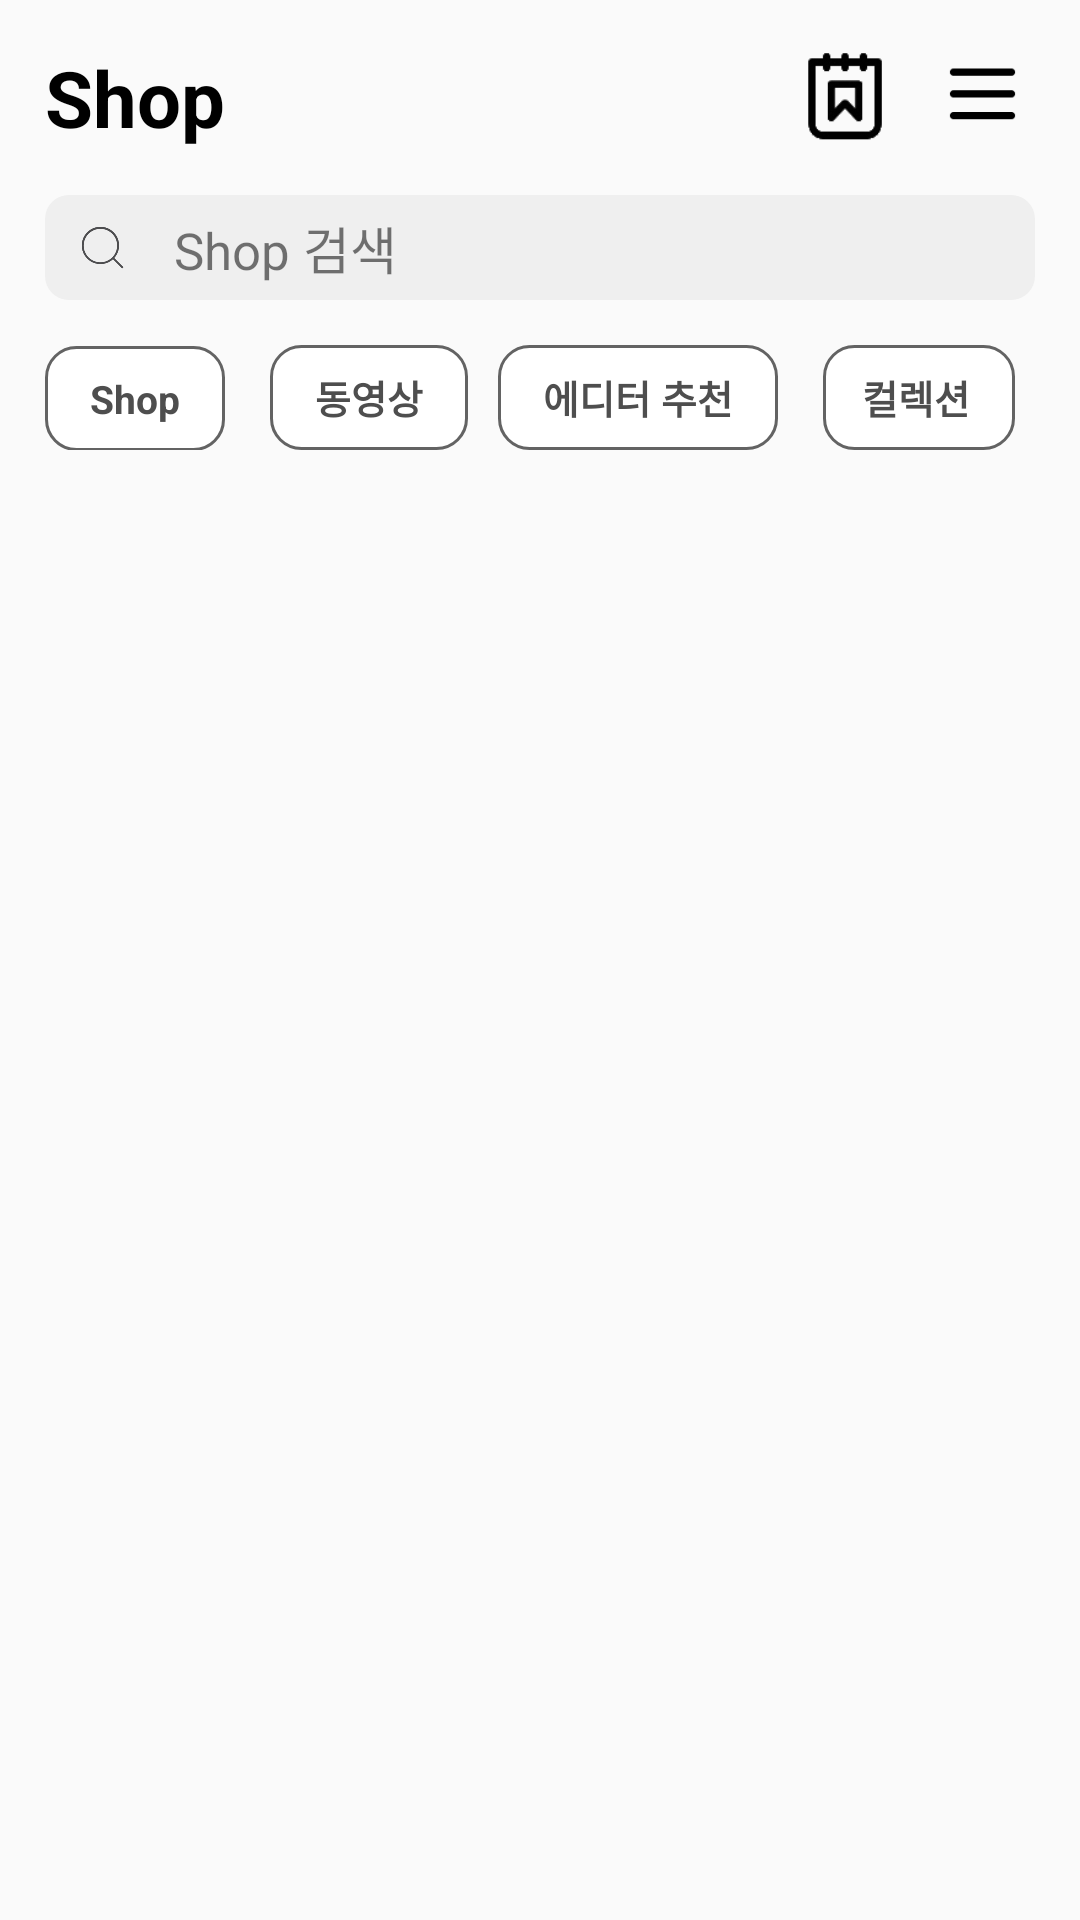

Where to tap for icons on this 1080 × 1920 app screen, as point (x, y):
burger: point (982, 94)
search: point (102, 247)
